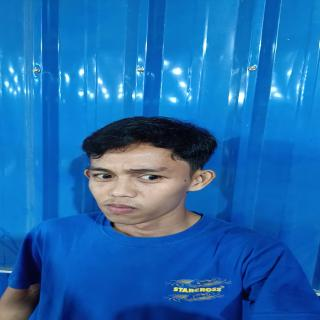Marah: (84, 133, 198, 230)
